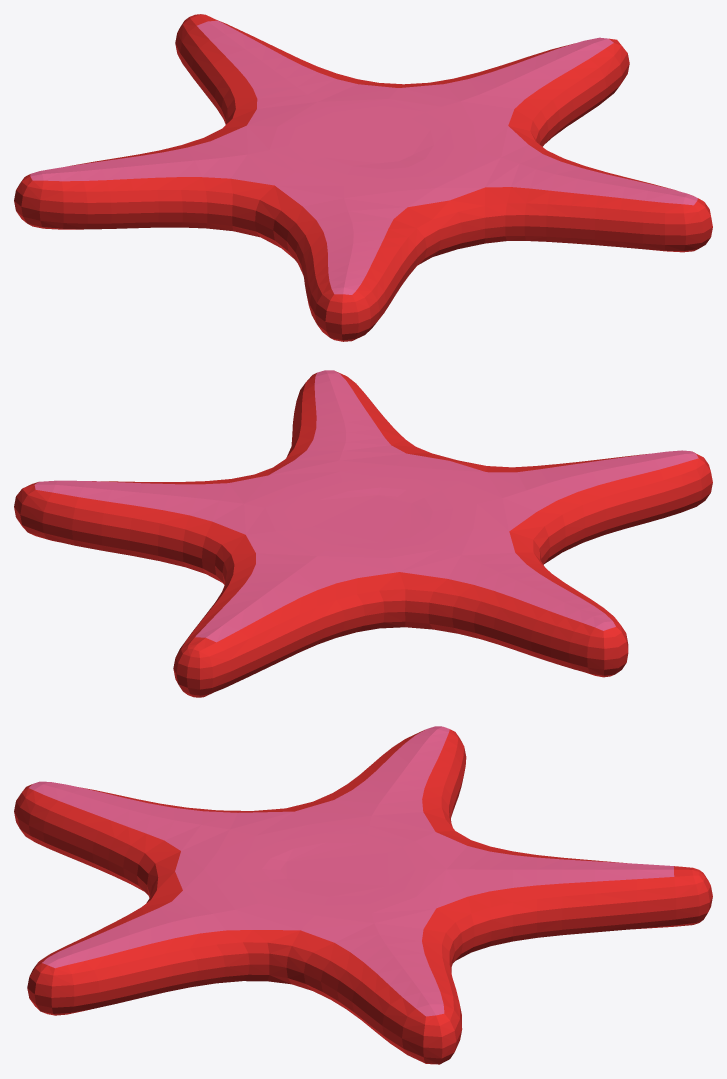
File: SM_Starfish.fbx
3 views of the same model, one above another, from view 1: azimuth 30°, elevation 25°; view 2: azimuth 150°, elevation 25°; view 3: azimuth 270°, elevation 25° (orthographic). The views are drawn at different scales.
Visible parts, largest first — view 1: SM_Starfish; view 2: SM_Starfish; view 3: SM_Starfish.
Boxes of the visible parts, x1,y1,x2,y2 form: SM_Starfish: (14,14,712,341); SM_Starfish: (14,370,712,697); SM_Starfish: (14,726,712,1064).
Size of the model in its own units: 154 by 158 by 13.3.
